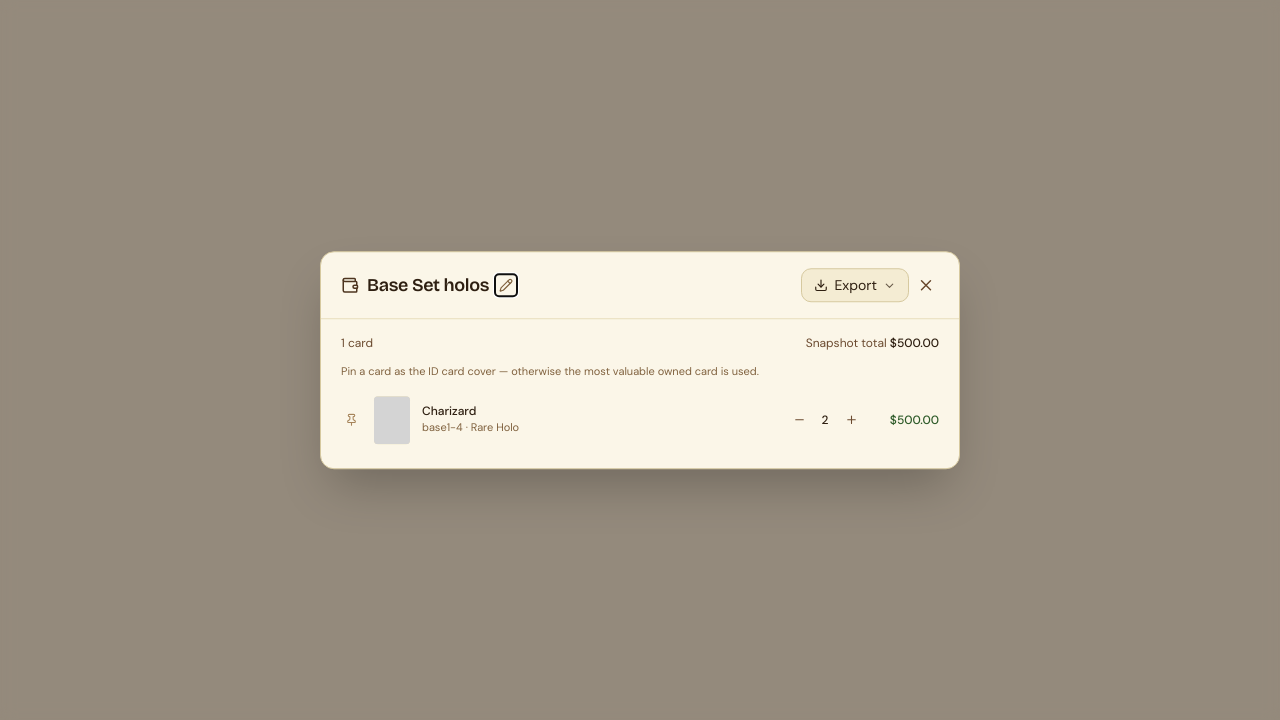
Test: CollectionDetail › increments a card quantity from the stepper (#769)
Expected: the text "Charizard" is shown, left=422, top=404, right=476, bottom=420
Step 1. Click the button named "increase quantity of charizard" → (851, 420), box left=839, top=408, right=863, bottom=432
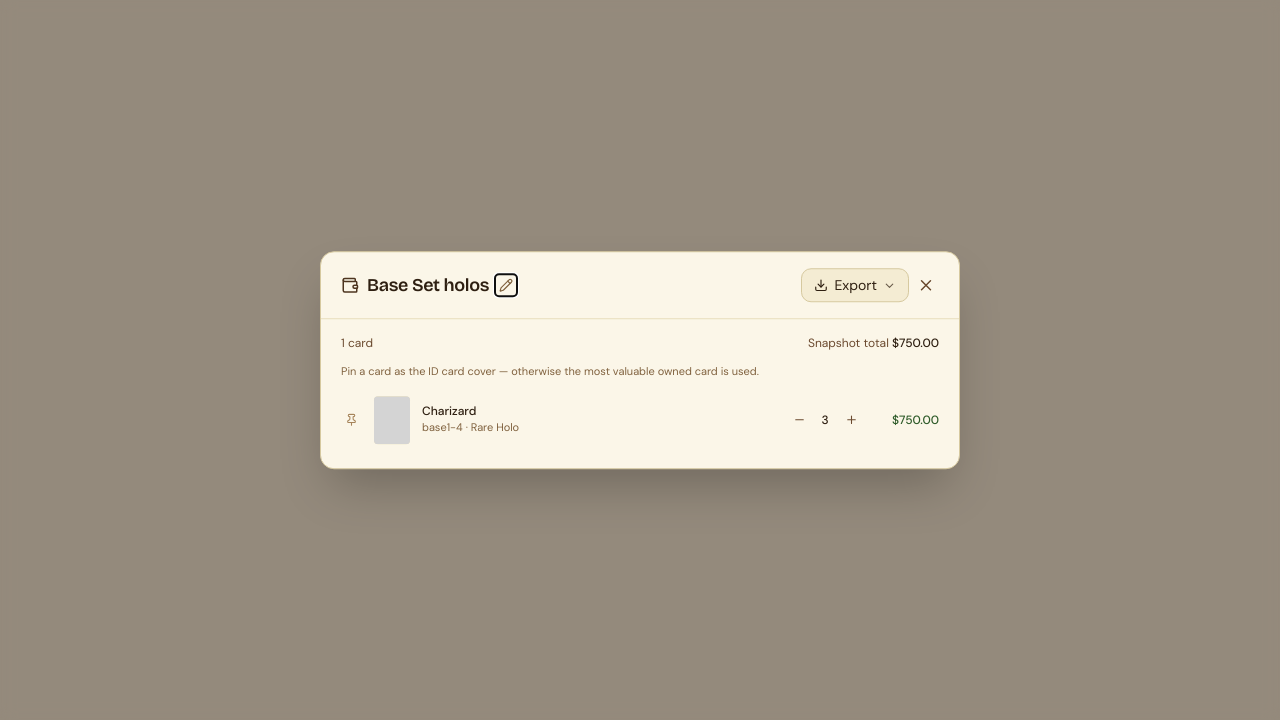
Now the text named "owned quantity of charizard" reads "3", box left=821, top=412, right=828, bottom=428
